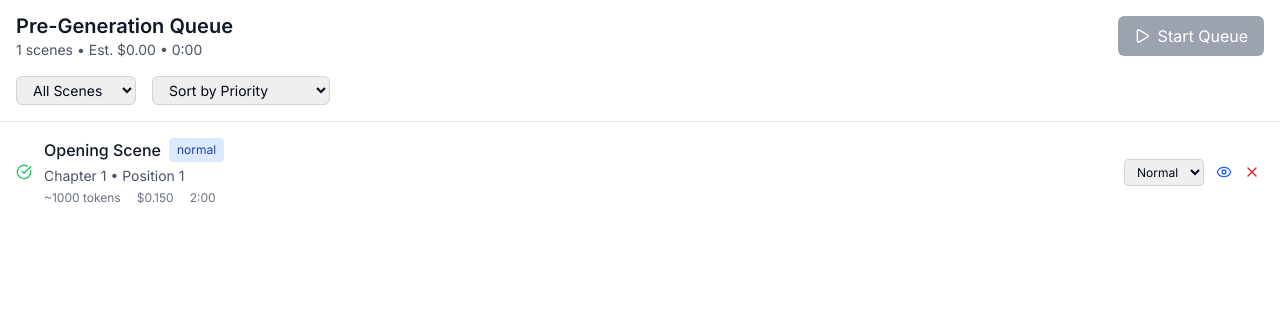
Test: PreGenerationQueue › Preview Functionality › toggles content preview
Click the 2nd button: (1224, 172) [1212, 160, 1236, 184]
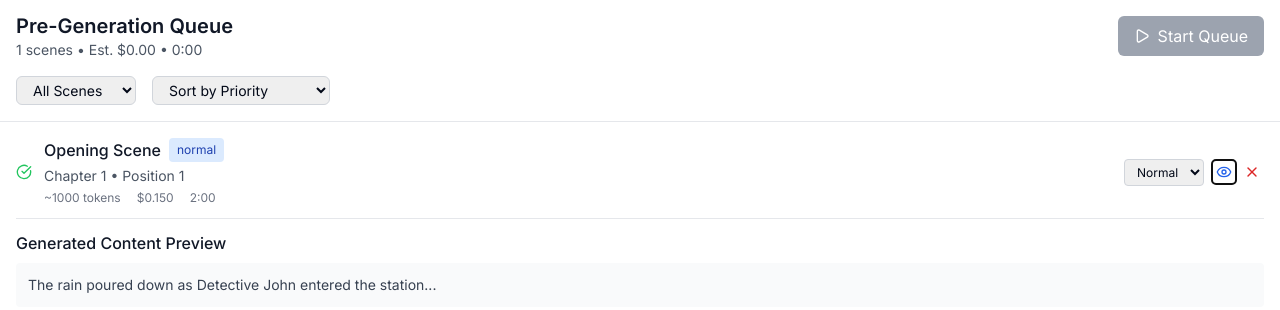
Expected: the heading "Generated Content Preview" is shown, [16, 233, 226, 253]
Expected: the text "The rain poured down" is shown, [28, 276, 436, 293]
